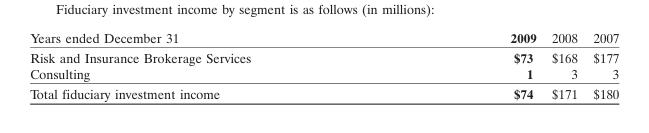table: (29, 29, 618, 101)
table column: (29, 29, 379, 101), (379, 29, 543, 101), (543, 29, 584, 101), (584, 29, 618, 101)
table column header: (29, 29, 618, 47)
table row: (29, 29, 618, 47), (29, 47, 618, 65), (29, 65, 618, 83), (29, 83, 618, 101)
